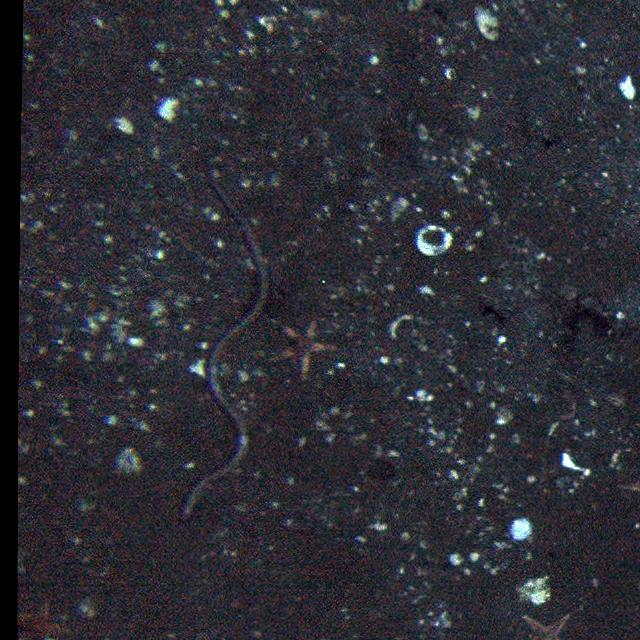eel: (181, 178, 273, 529)
